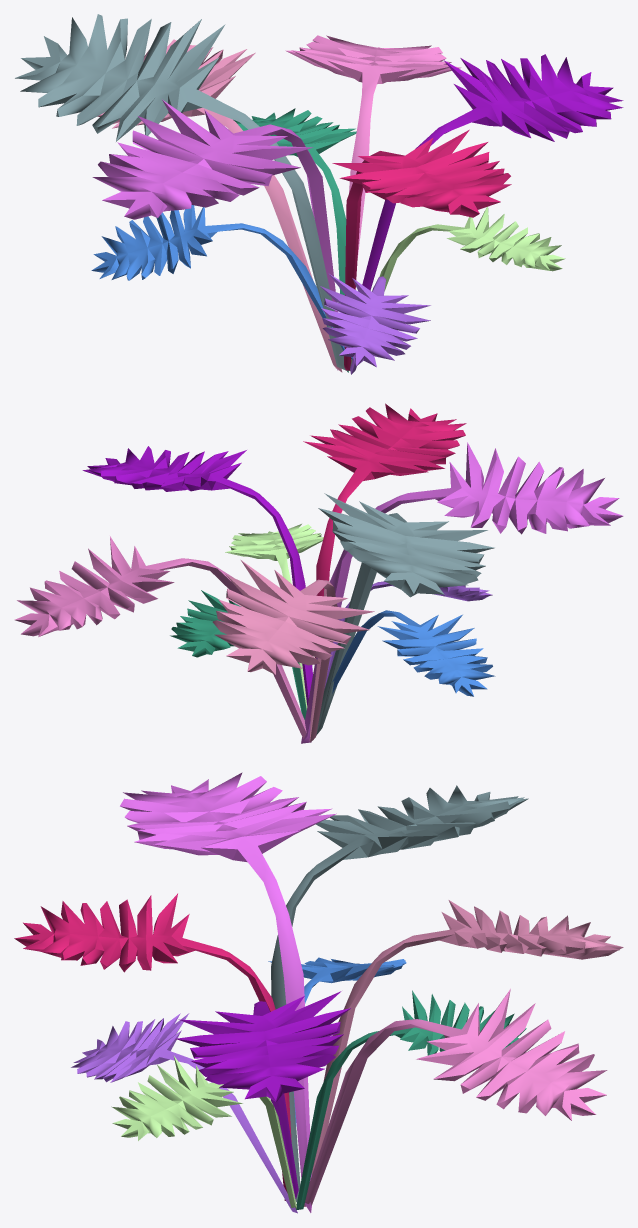
3 views of the same model, one above another, from view 1: azimuth 30°, elevation 25°; view 2: azimuth 150°, elevation 25°; view 3: azimuth 270°, elevation 25° (orthographic). The views are drawn at different scales.
Visible parts, largest first — view 1: split_parent_5, split_parent_2, split_parent_8, split_parent_9, split_parent_7, split_parent_4, split_parent_1, split_parent_0, split_parent_3, split_parent_6; view 2: split_parent_3, split_parent_5, split_parent_2, split_parent_4, split_parent_9, split_parent_8, split_parent_7, split_parent_6, split_parent_0, split_parent_1; view 3: split_parent_2, split_parent_4, split_parent_8, split_parent_5, split_parent_9, split_parent_3, split_parent_0, split_parent_1, split_parent_6, split_parent_7.
Boxes of the visible parts, bbox=[...] form: split_parent_5: bbox=[15, 14, 347, 371]; split_parent_2: bbox=[92, 99, 337, 370]; split_parent_8: bbox=[362, 54, 623, 290]; split_parent_9: bbox=[332, 129, 511, 370]; split_parent_7: bbox=[91, 205, 352, 359]; split_parent_4: bbox=[285, 35, 461, 257]; split_parent_1: bbox=[320, 273, 430, 374]; split_parent_0: bbox=[349, 206, 565, 370]; split_parent_3: bbox=[97, 39, 342, 372]; split_parent_6: bbox=[233, 108, 356, 372]; split_parent_3: bbox=[212, 560, 374, 742]; split_parent_5: bbox=[316, 493, 494, 735]; split_parent_2: bbox=[301, 442, 623, 743]; split_parent_4: bbox=[14, 536, 306, 738]; split_parent_9: bbox=[303, 403, 466, 657]; split_parent_8: bbox=[82, 446, 312, 705]; split_parent_7: bbox=[332, 610, 495, 696]; split_parent_6: bbox=[170, 590, 306, 719]; split_parent_0: bbox=[225, 524, 323, 709]; split_parent_1: bbox=[324, 581, 492, 687]; split_parent_2: bbox=[120, 772, 336, 1212]; split_parent_4: bbox=[304, 988, 607, 1205]; split_parent_8: bbox=[175, 991, 350, 1198]; split_parent_5: bbox=[271, 785, 528, 1201]; split_parent_9: bbox=[14, 893, 291, 1200]; split_parent_3: bbox=[304, 900, 623, 1206]; split_parent_0: bbox=[111, 1055, 296, 1208]; split_parent_1: bbox=[71, 1013, 297, 1213]; split_parent_6: bbox=[296, 990, 526, 1209]; split_parent_7: bbox=[268, 957, 406, 1126].
Size of the model in its own units: 1 by 0.5751 by 0.933.
